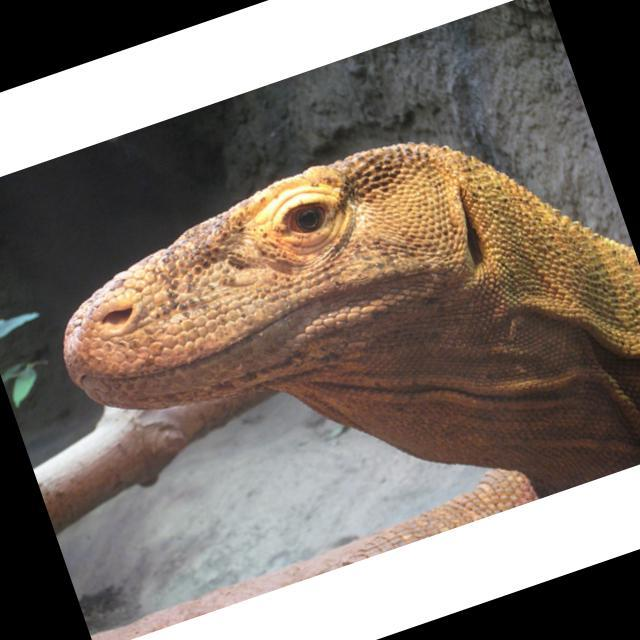KomodoDragon: (30, 72, 640, 627)
